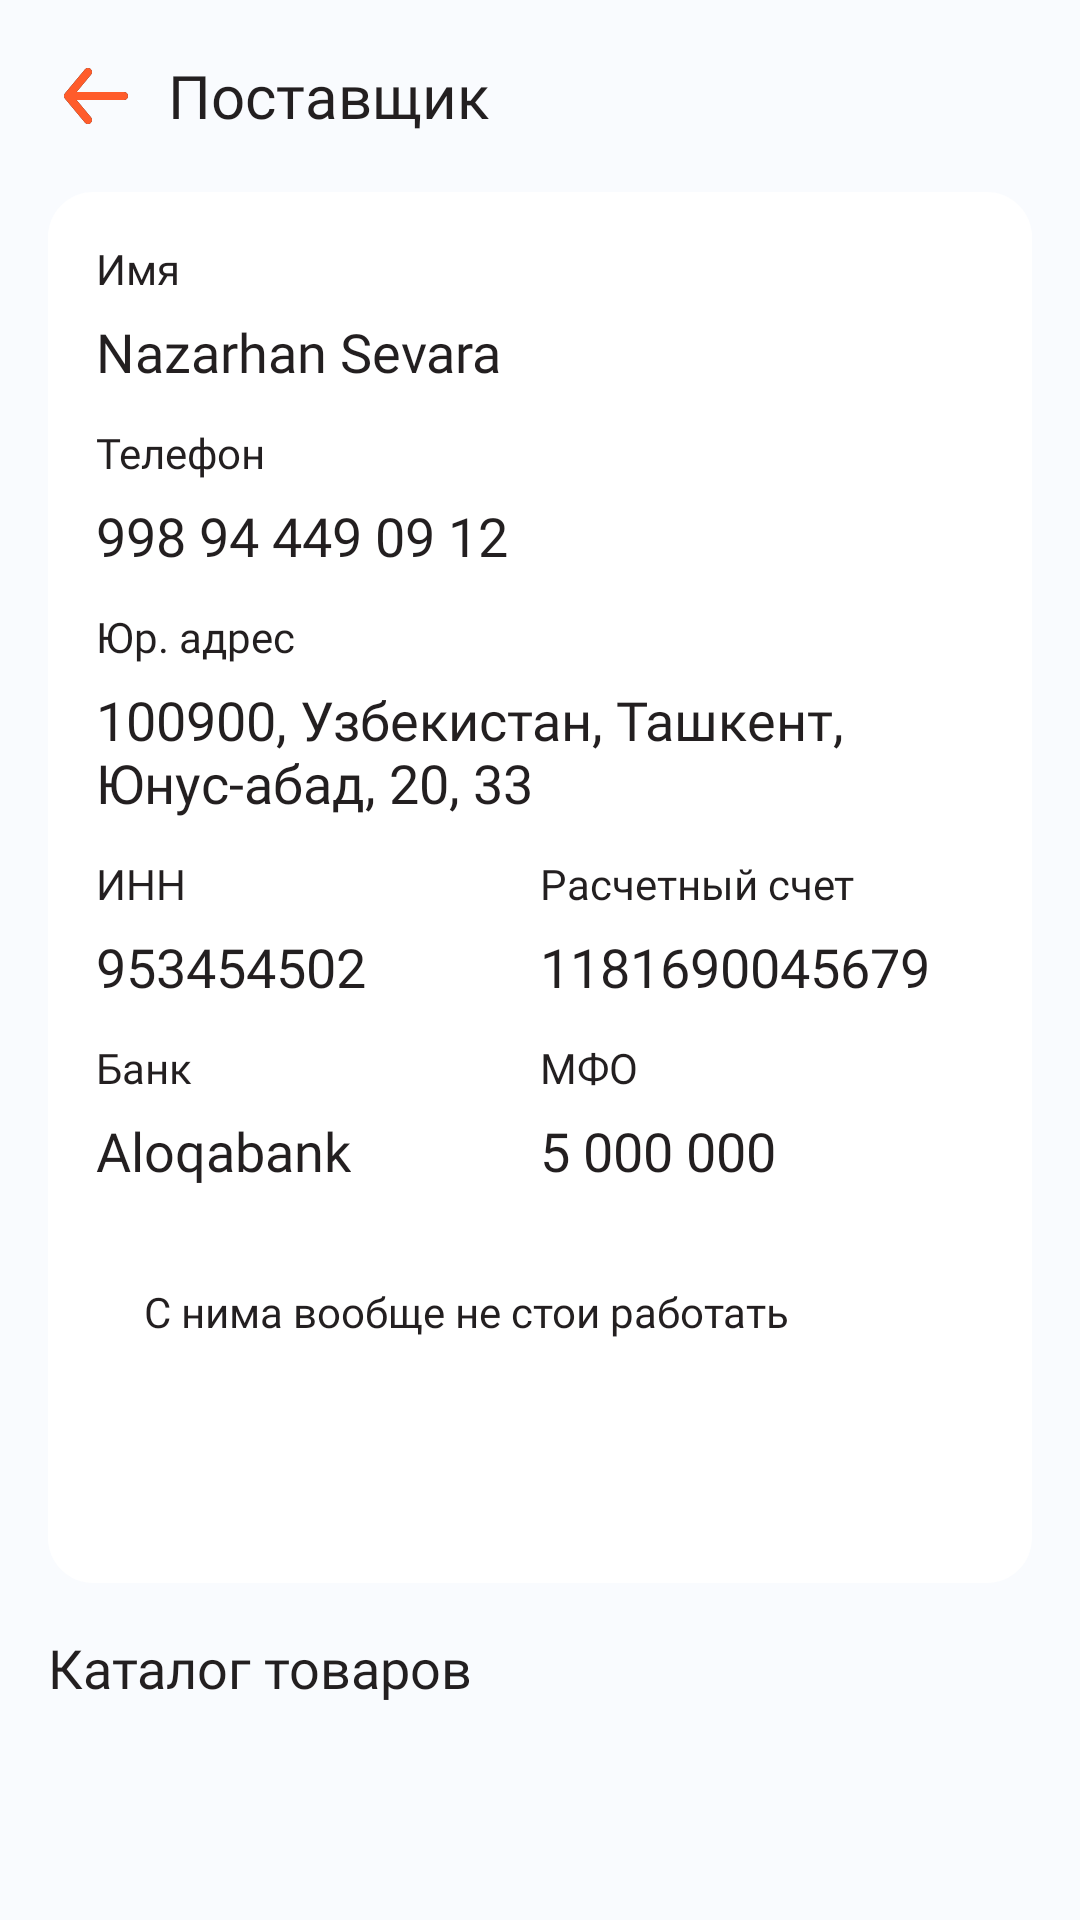

Locate icon controls on the screen. Image size 1080 x 1920, boxes as {"left": x1, "top": y1, "right": x2, "bottom": y2}.
arrow left: {"left": 64, "top": 68, "right": 128, "bottom": 124}
